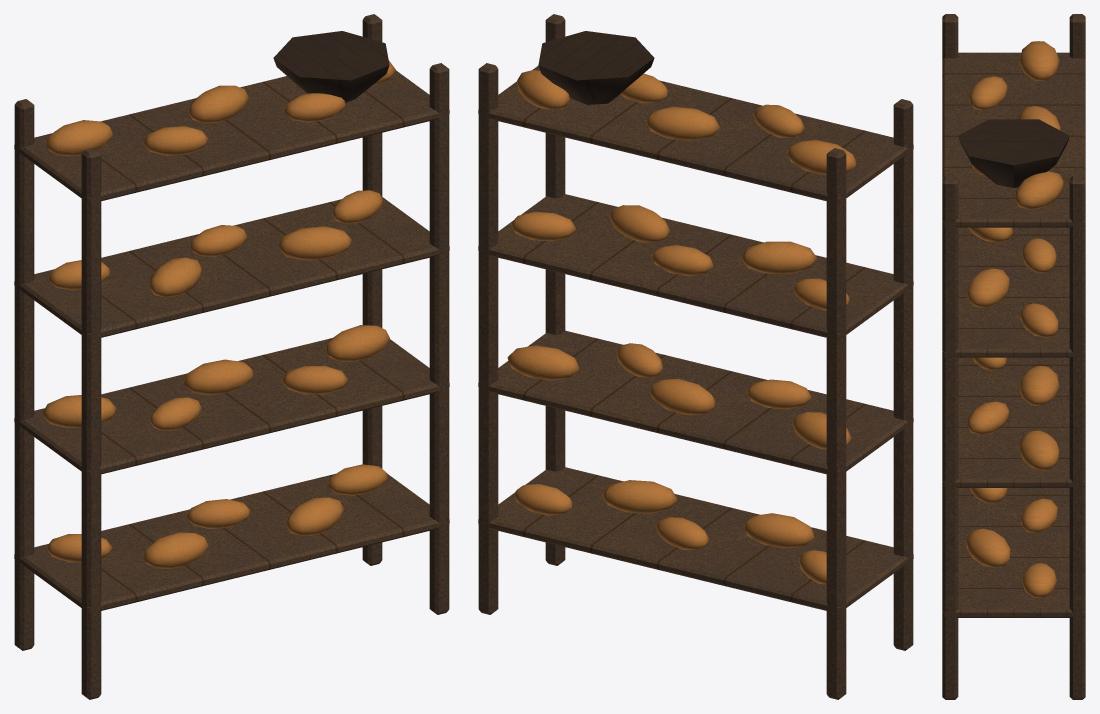
File: bread_rack_lod1.glb
The picture shows the model from 3 angles, left to right: view 1: azimuth 30°, elevation 25°; view 2: azimuth 150°, elevation 25°; view 3: azimuth 270°, elevation 25°; orthographic projection. The views are drawn at different scales.
Parts seen in each view (by area): view 1: bread_rack; view 2: bread_rack; view 3: bread_rack.
Part boxes in pixels (<box>): bread_rack: <box>14,14,449,699</box>; bread_rack: <box>478,14,913,699</box>; bread_rack: <box>942,14,1085,699</box>.
Bounding box in the file's own units: 1.25 × 1.81 × 0.45.
1 material, 1 textured.
